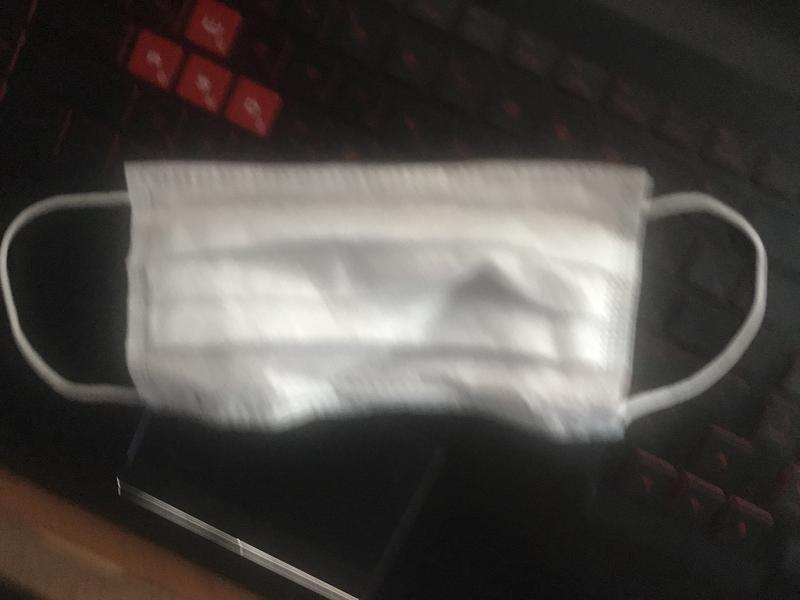medical_mask: (4, 160, 767, 439)
